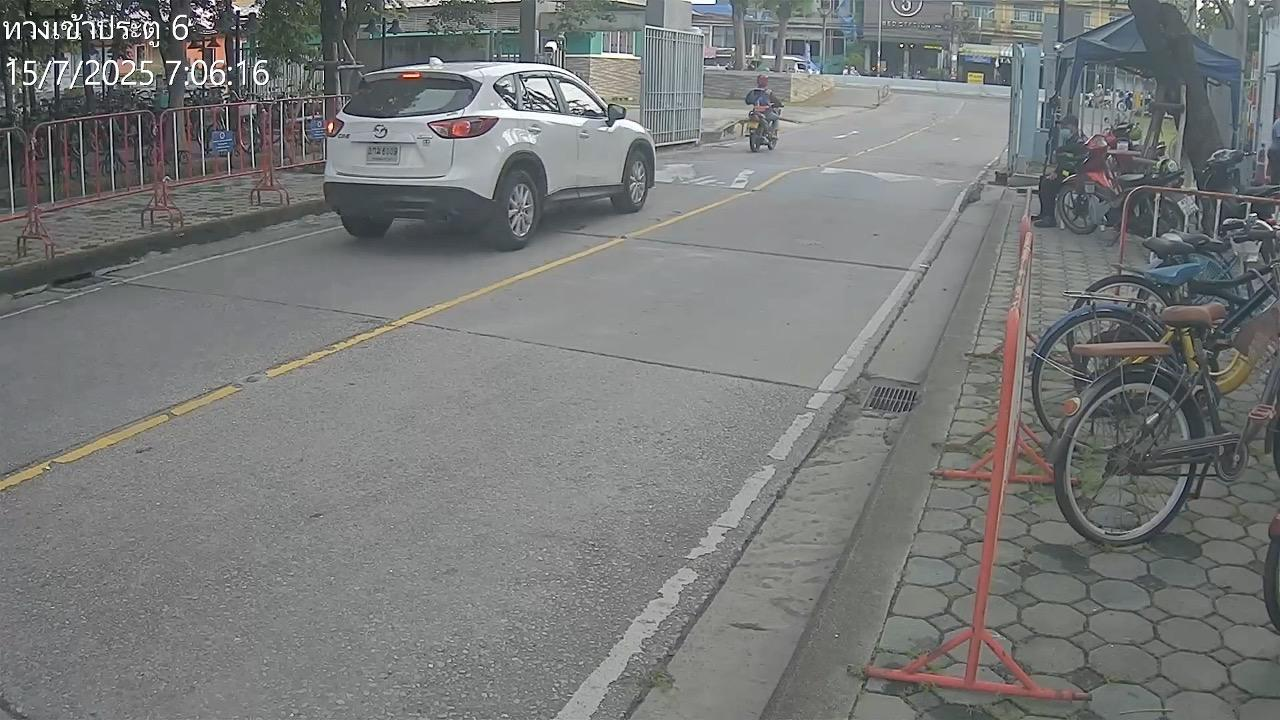With-Helmet: (757, 74, 769, 86)
